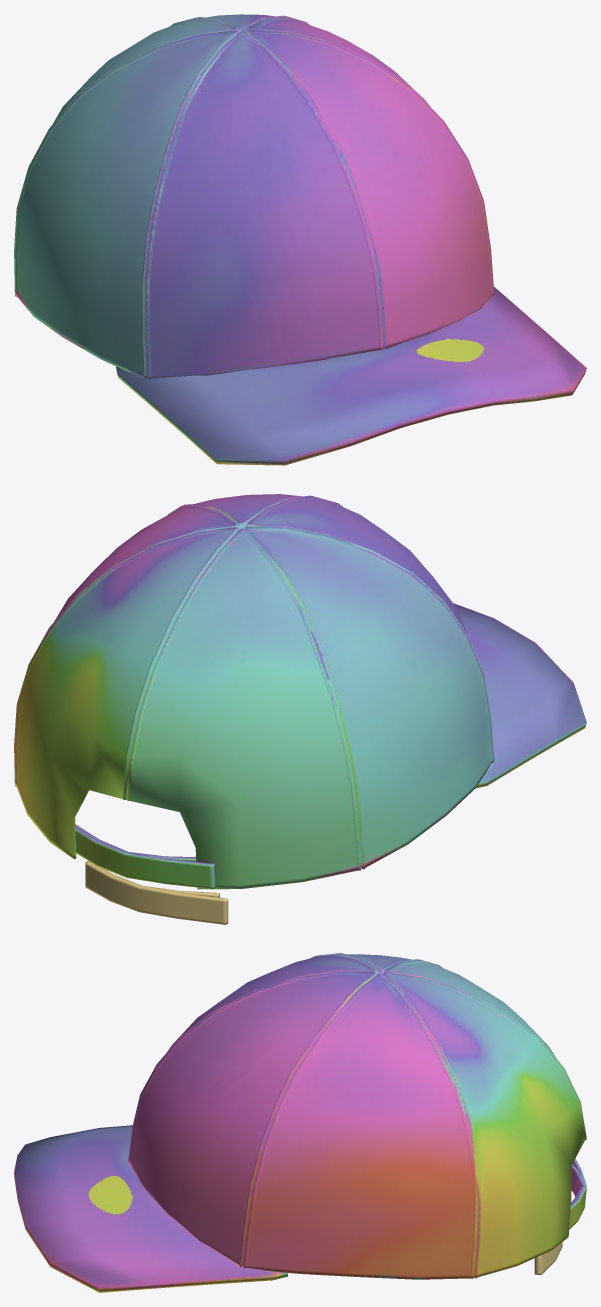
File: hat1.glb
The picture shows the model from 3 angles, top to bottom: view 1: azimuth 30°, elevation 25°; view 2: azimuth 150°, elevation 25°; view 3: azimuth 270°, elevation 25°; orthographic projection. The views are drawn at different scales.
Parts seen in each view (by area): view 1: Cap.001; view 2: Cap.001; view 3: Cap.001.
Boxes of the visible parts, x1=… form: Cap.001: x1=14, y1=14, x2=586, y2=465; Cap.001: x1=14, y1=494, x2=586, y2=924; Cap.001: x1=14, y1=953, x2=586, y2=1292.
Bounding box in the file's own units: 1.09 × 0.8453 × 1.59.
1 material, 1 textured.
